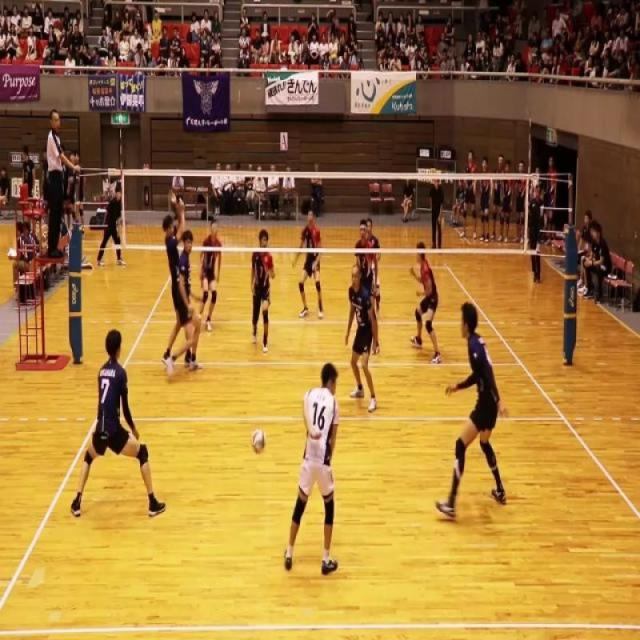volleyball: (251, 428, 267, 454)
